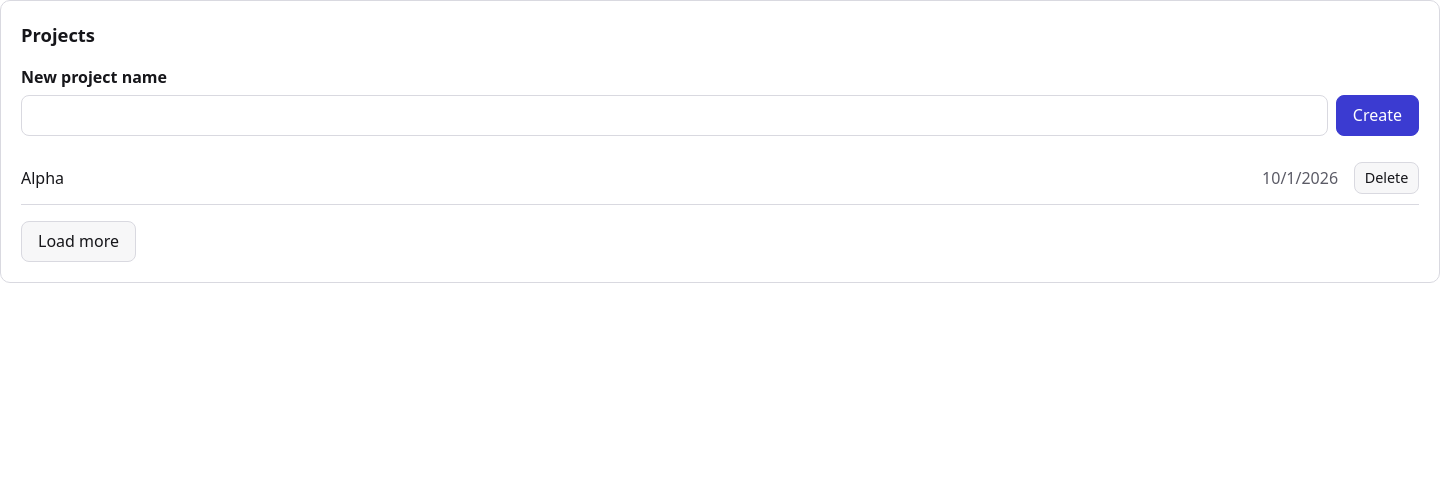
projects panel keyboard focus and announcements (FE-09) › keeps focus when Try again recovers a failed Load more
Expected: the text "Alpha" is shown, left=21, top=166, right=64, bottom=188
Click the button "Load more" at [78, 241], box left=21, top=220, right=136, bottom=262
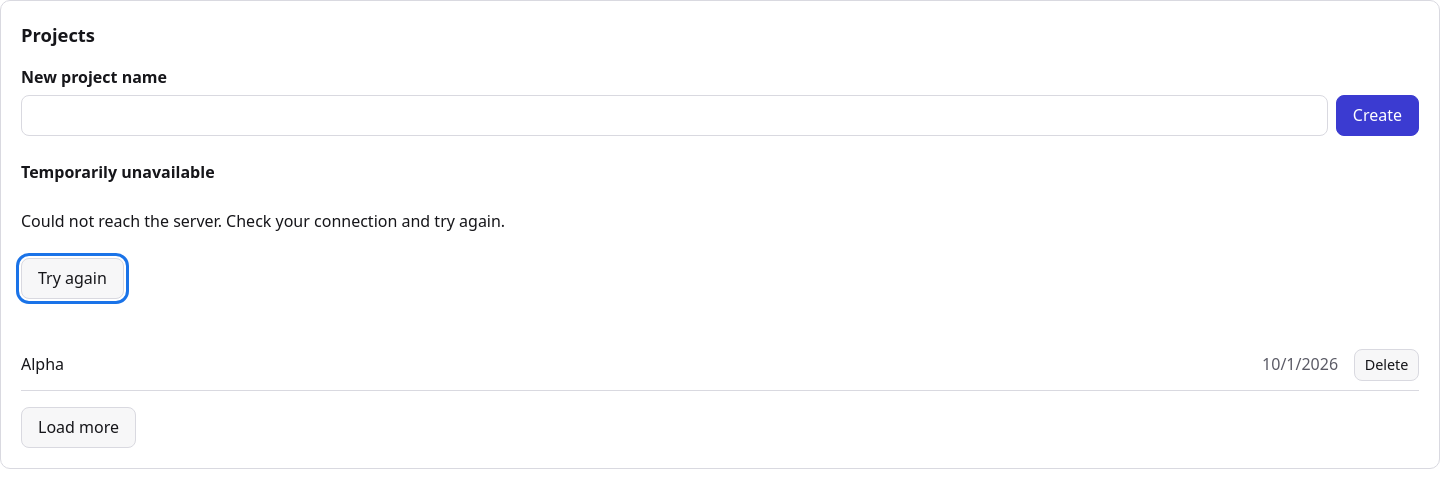
Press Enter
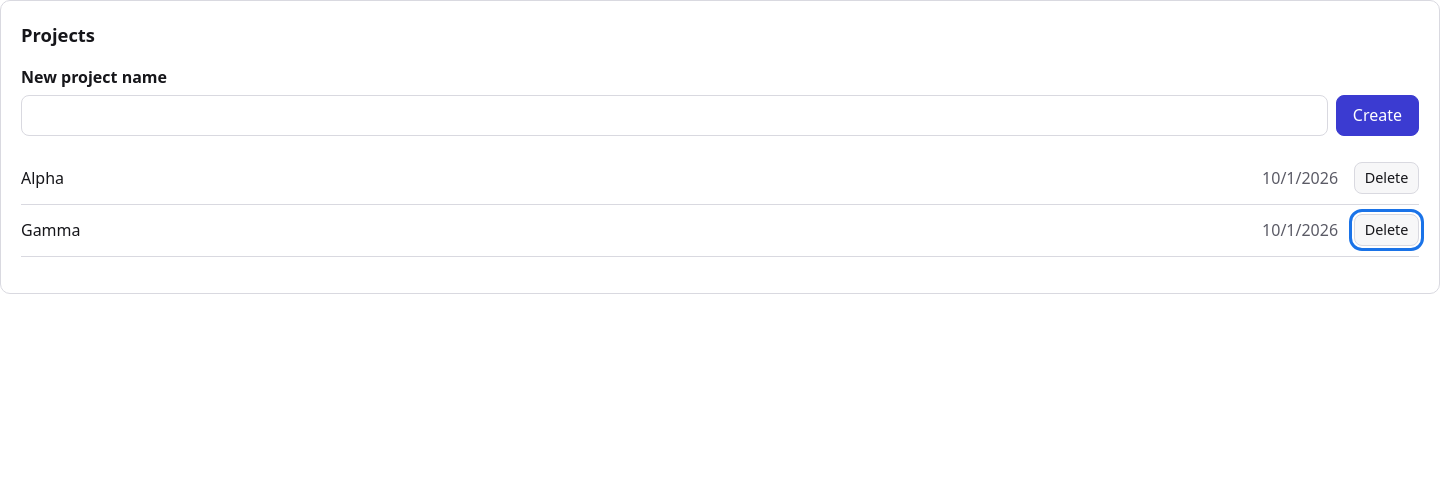
Expected: the text "Gamma" is shown, left=21, top=219, right=80, bottom=241
